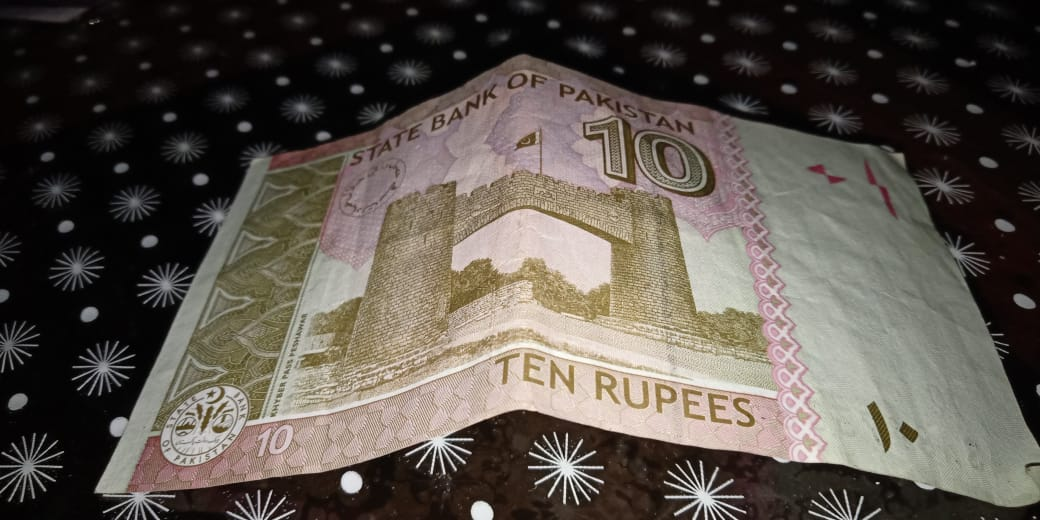10 rupee: (94, 41, 1040, 515)
